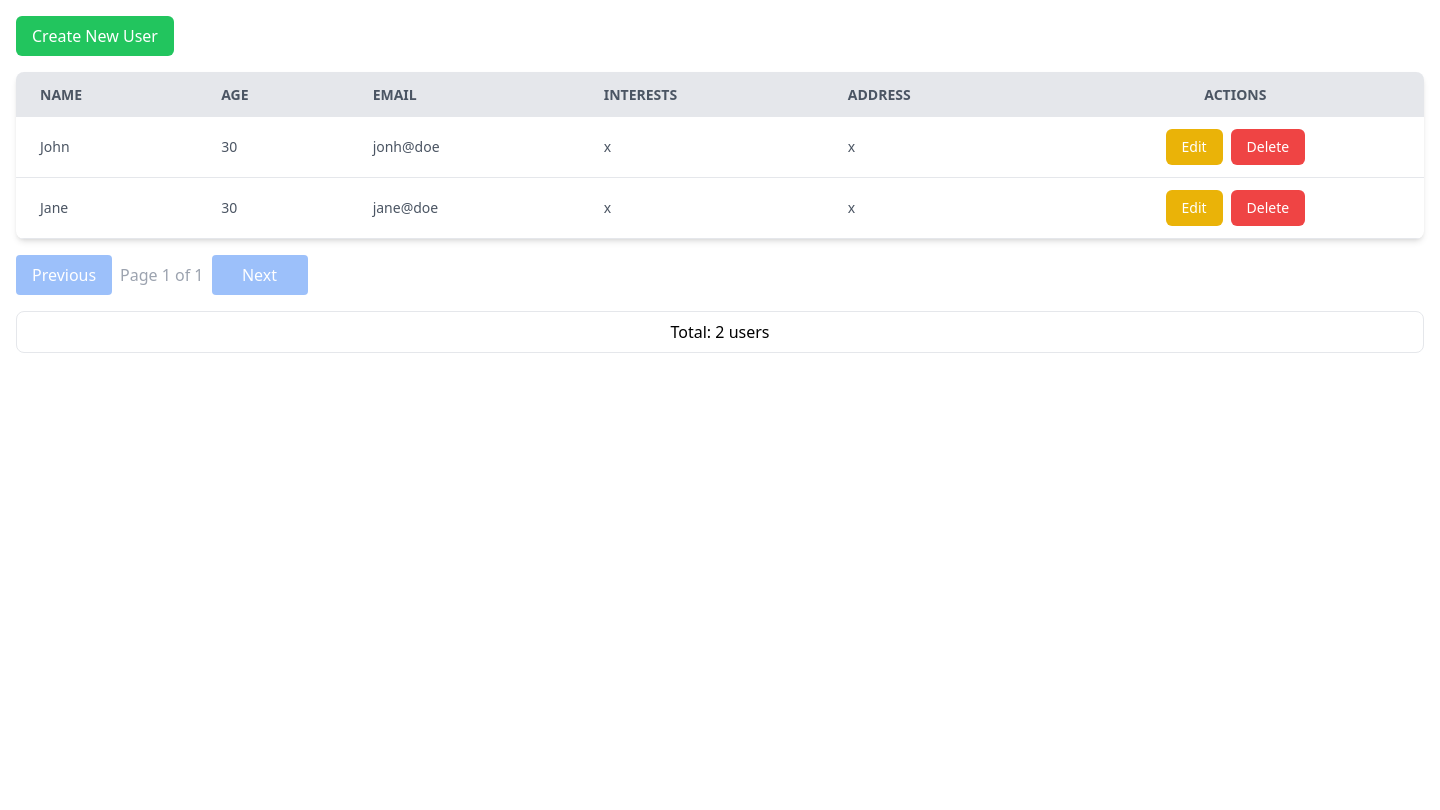
Users Component › opens modal with userForm to update user
The width and height of the screenshot is (1440, 810).
Check: the text "John" is shown, box [16,117,197,178]
Click the button "Edit" in the row of "John" at (1194, 147), box [1166,129,1223,165]
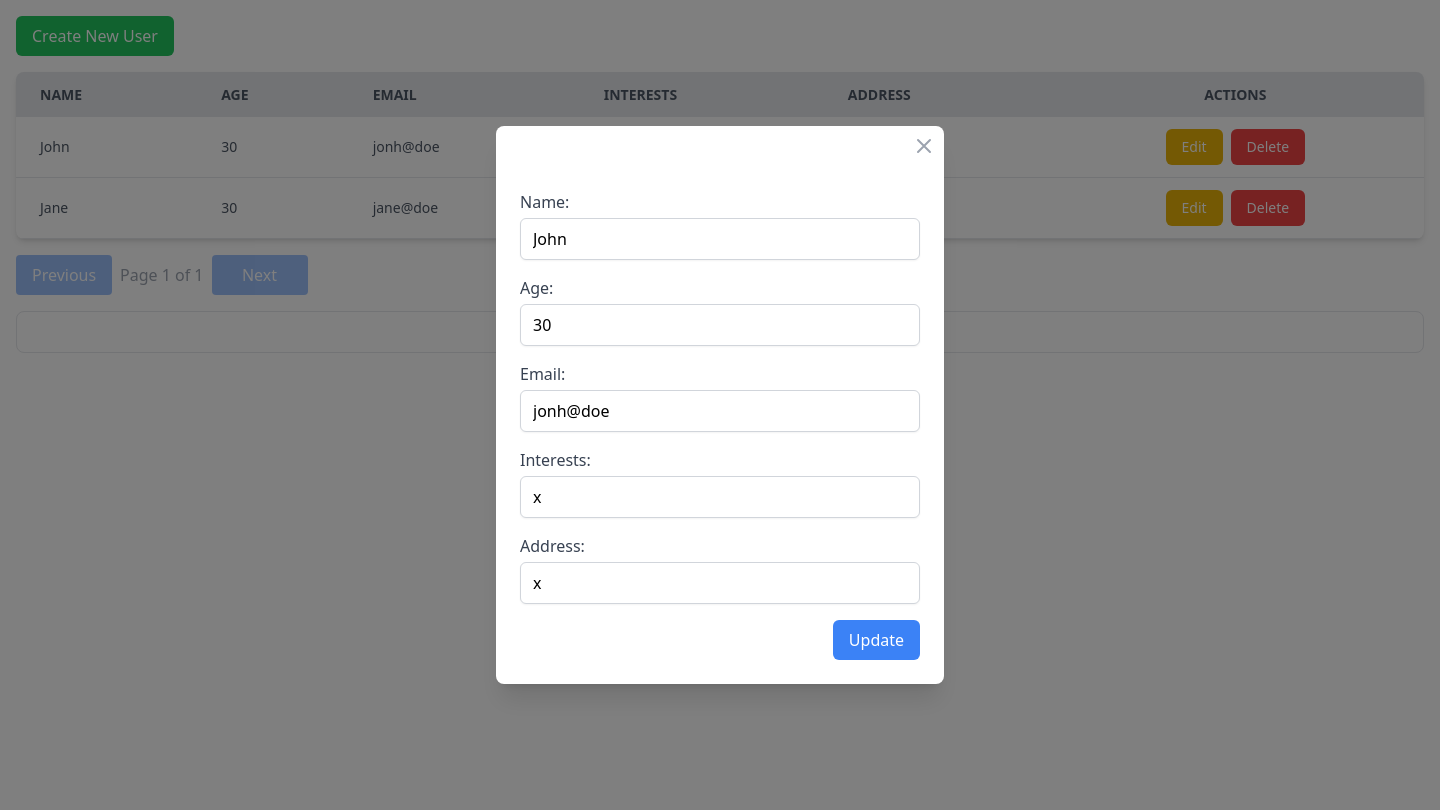
Check: the field labelled "Name:" holds "John", box [520,218,920,260]
Check: the button "Update" is shown, box [833,620,920,660]
